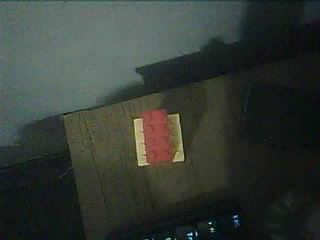lego: (133, 109, 185, 167)
